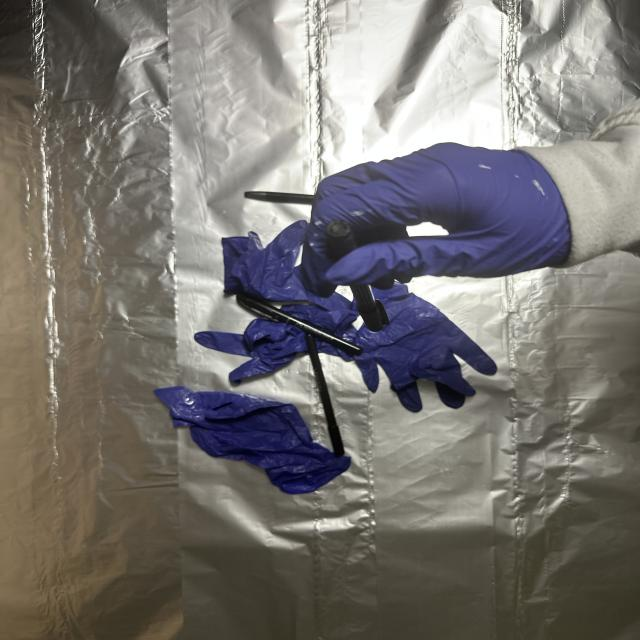gloves_contaminated: (302, 143, 571, 293)
